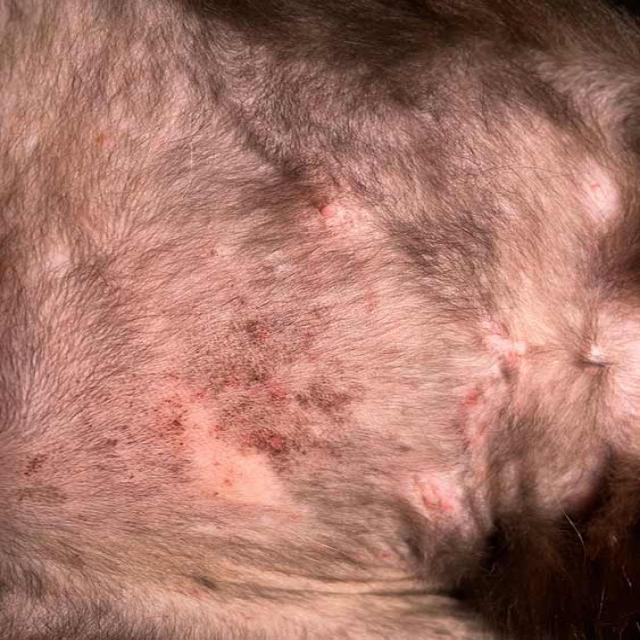di ung bo chet: (0, 75, 569, 483)
